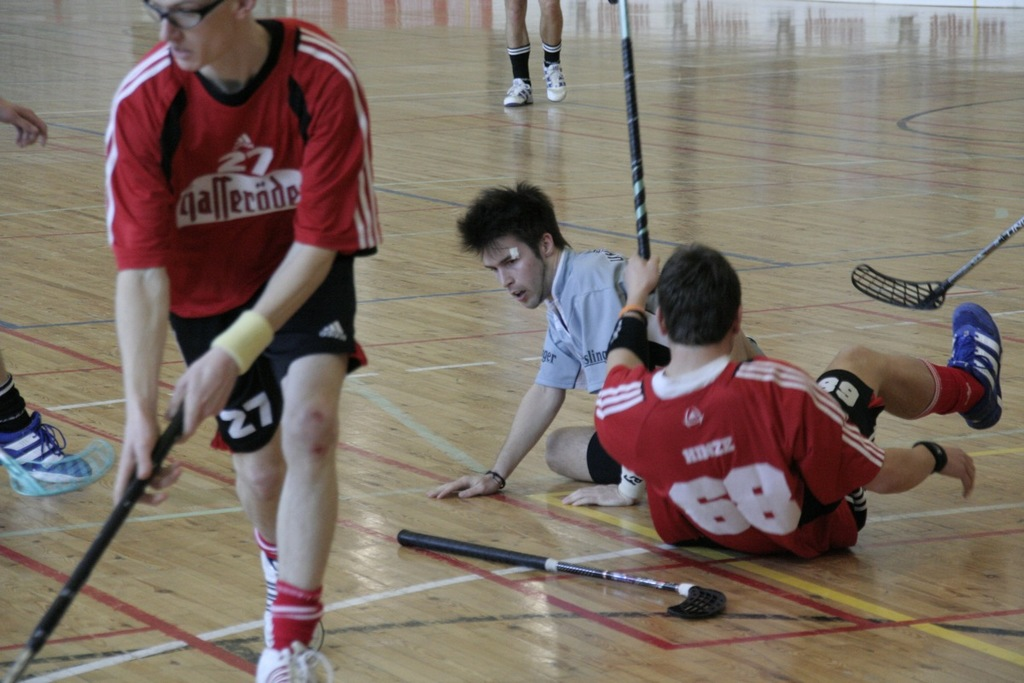Person: (104, 0, 383, 683), (594, 242, 1003, 558), (428, 180, 757, 505), (0, 99, 90, 483), (501, 0, 569, 108)
